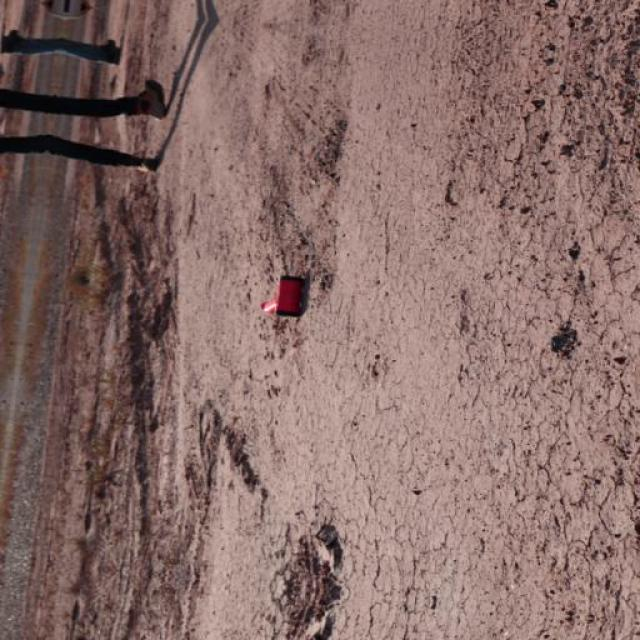mallet: (259, 274, 306, 318)
